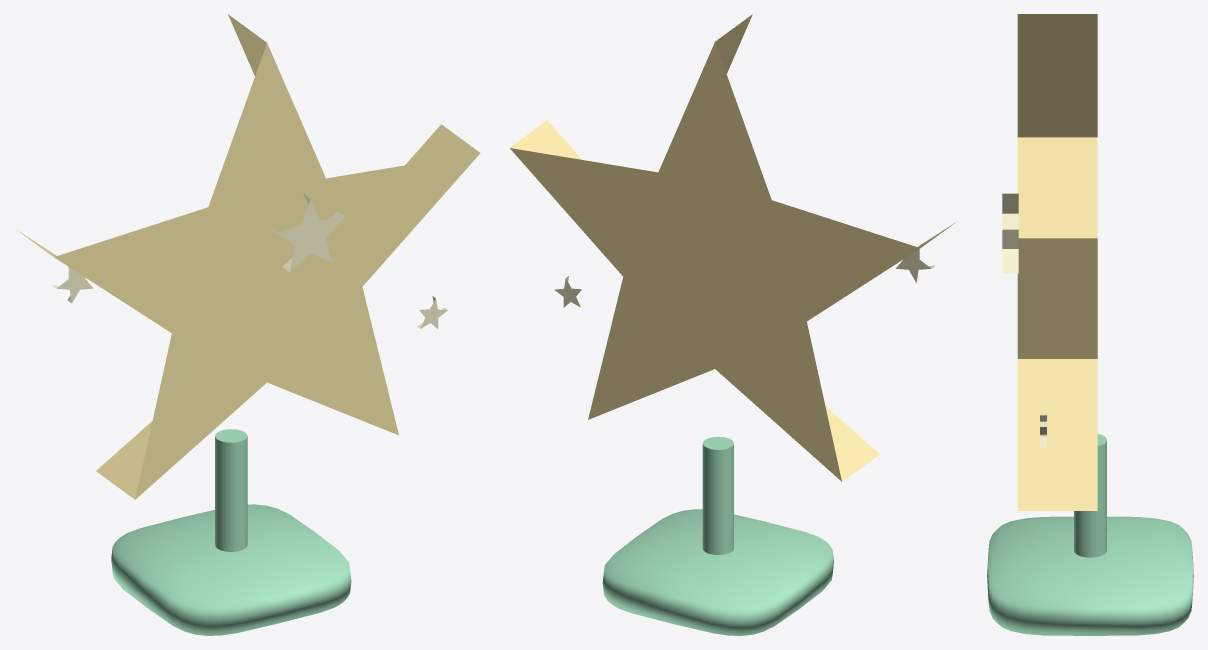
File: goal-star.glb
3 renders of one model, left to right at view 1: azimuth 30°, elevation 25°; view 2: azimuth 150°, elevation 25°; view 3: azimuth 270°, elevation 25°, orthographic. The views are drawn at different scales.
Parts seen in each view (by area): view 1: standing star, star base, star stem, inner star shine; view 2: standing star, star base, star stem; view 3: standing star, star base, star stem, inner star shine.
Boxes of the visible parts, <box> form: standing star: <box>17,14,480,499</box>; star base: <box>111,504,351,635</box>; star stem: <box>215,429,247,551</box>; inner star shine: <box>271,193,344,271</box>; standing star: <box>510,14,955,481</box>; star base: <box>602,509,833,635</box>; star stem: <box>702,436,733,554</box>; standing star: <box>1017,14,1097,510</box>; star base: <box>987,516,1193,635</box>; star stem: <box>1074,434,1106,557</box>; inner star shine: <box>1002,193,1018,273</box>.
Size of the model in its own units: 1.07 by 1.38 by 0.44.
